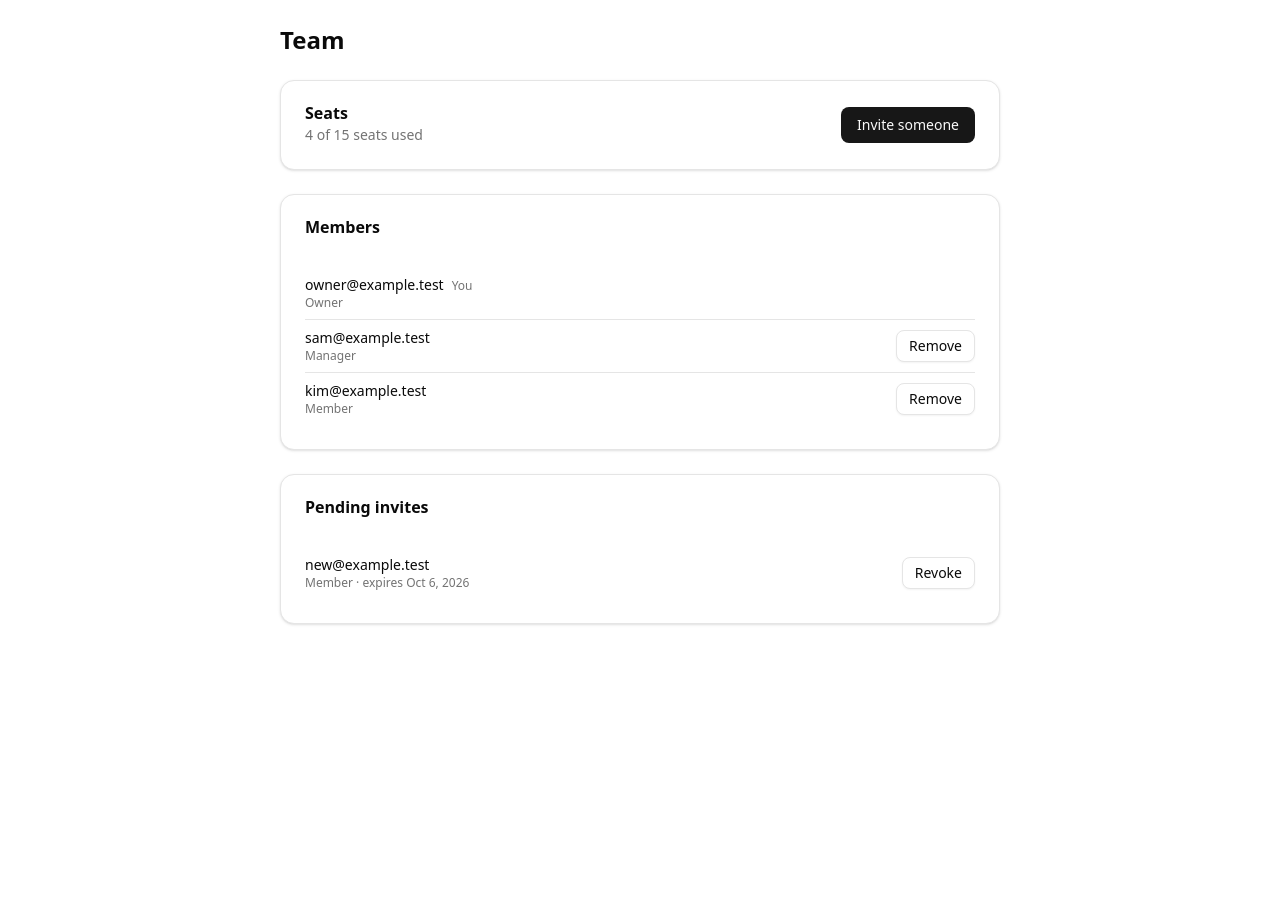
Test: TeamScreen › says the invite was emailed when the server sent it
Click the button "Invite someone".
click(908, 125)  # box [841, 107, 975, 143]
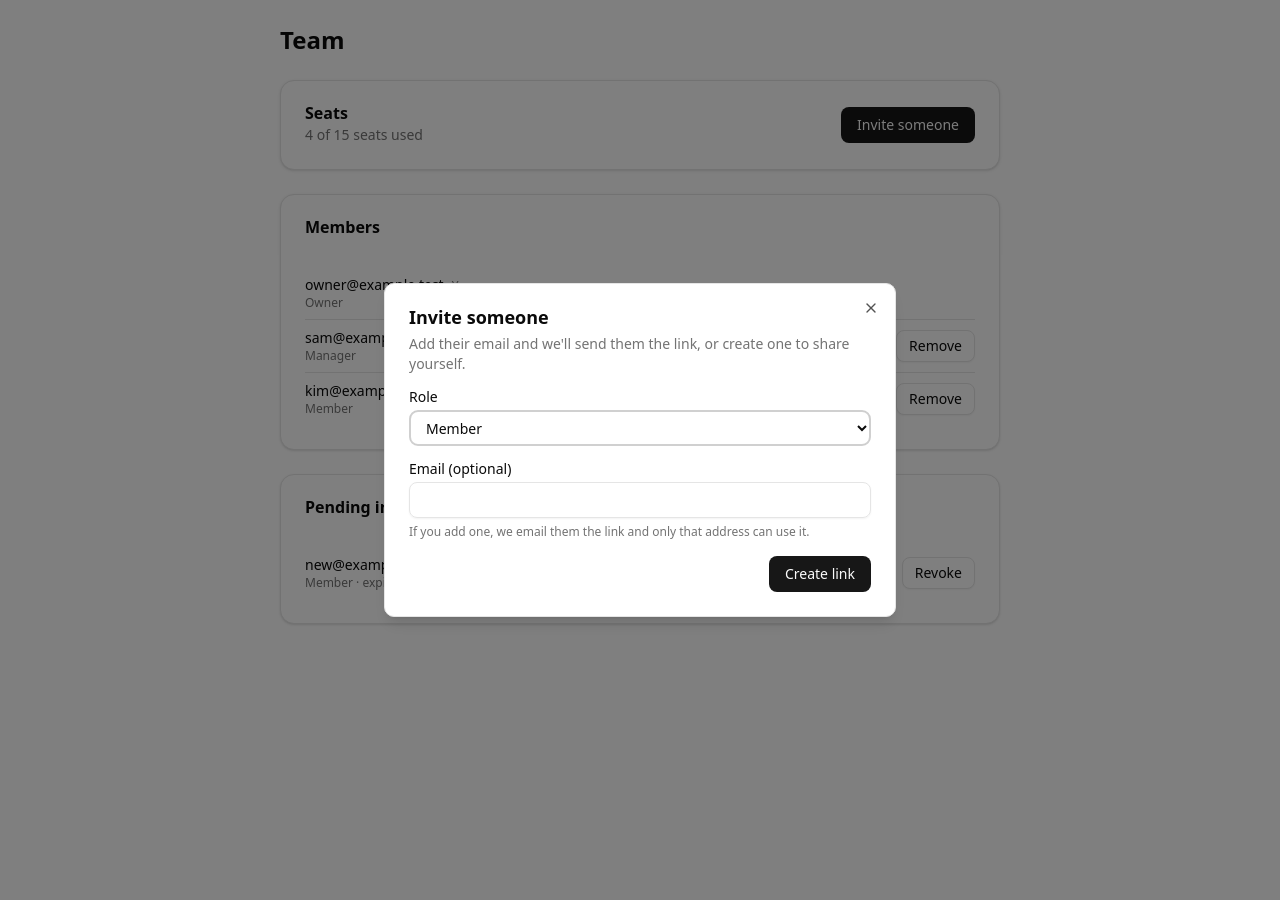
Type "grace@example.test" into the field labelled "Email (optional)".
click(640, 500); type("grace@example.test")  # box [409, 482, 871, 518]
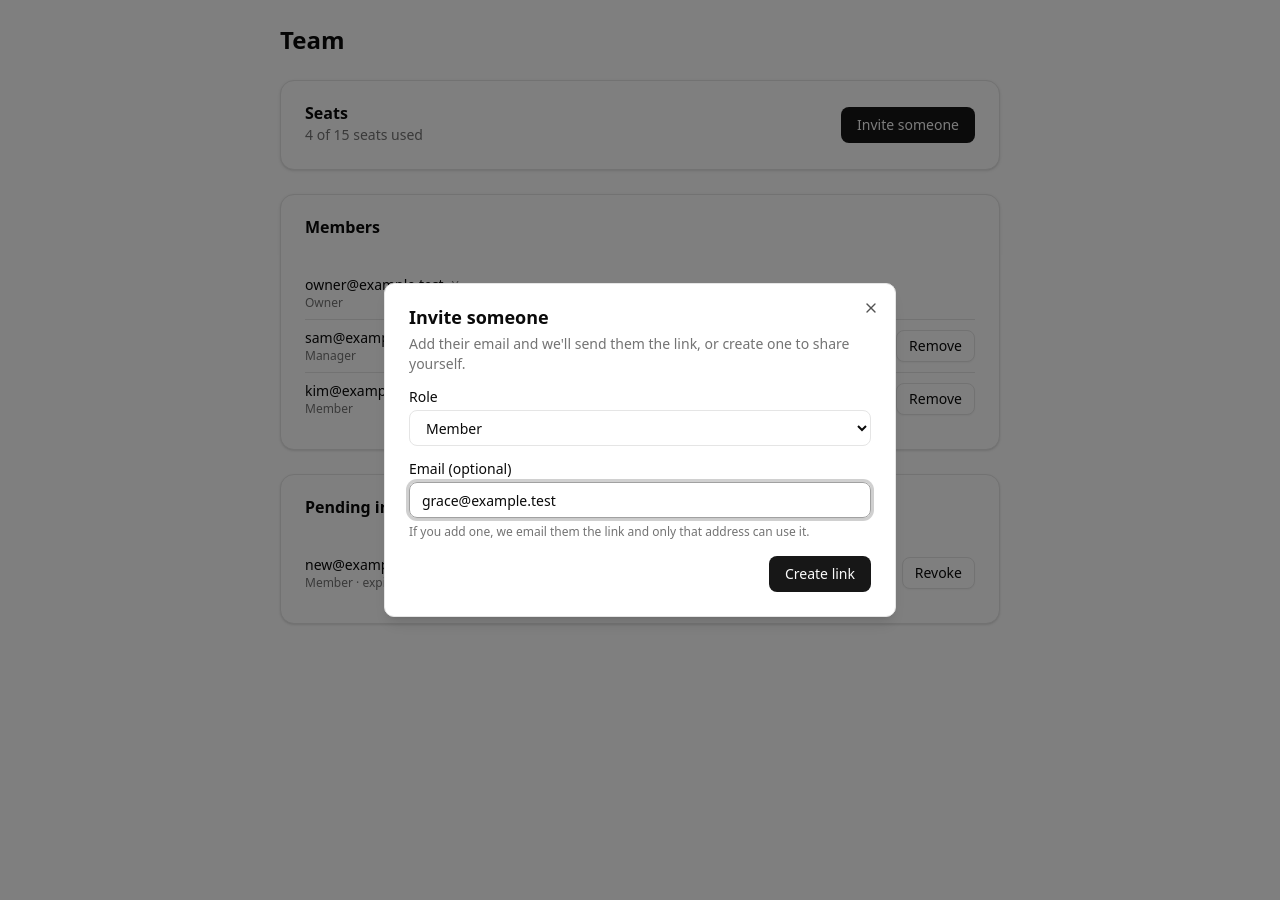
Click the button "Create link".
click(820, 574)  # box [769, 556, 871, 592]
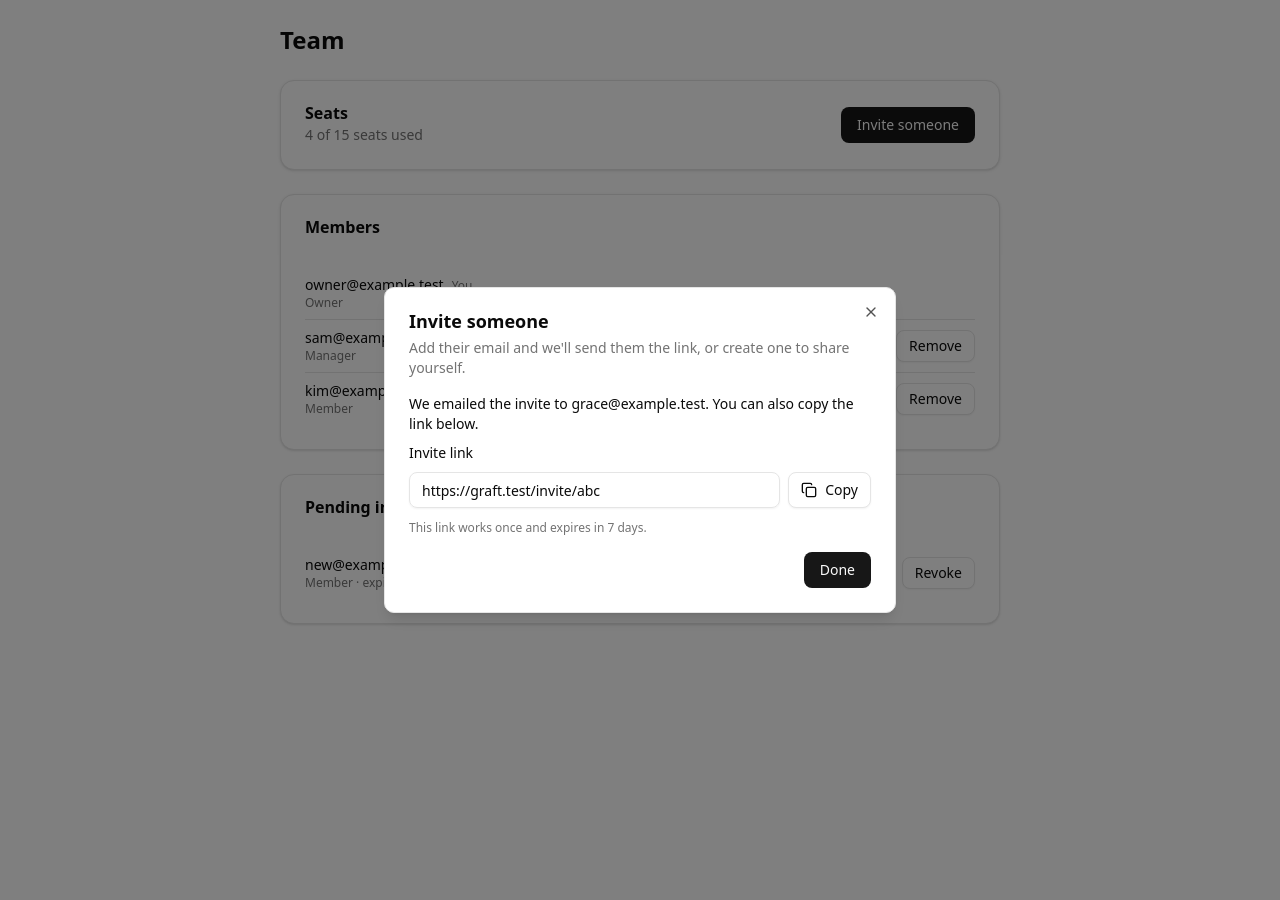
Now the text "We emailed the invite to" shows "grace@example.test", box [572, 394, 705, 413]
Now the field showing "https://graft.test/invite/abc" is shown, box [409, 472, 780, 508]
